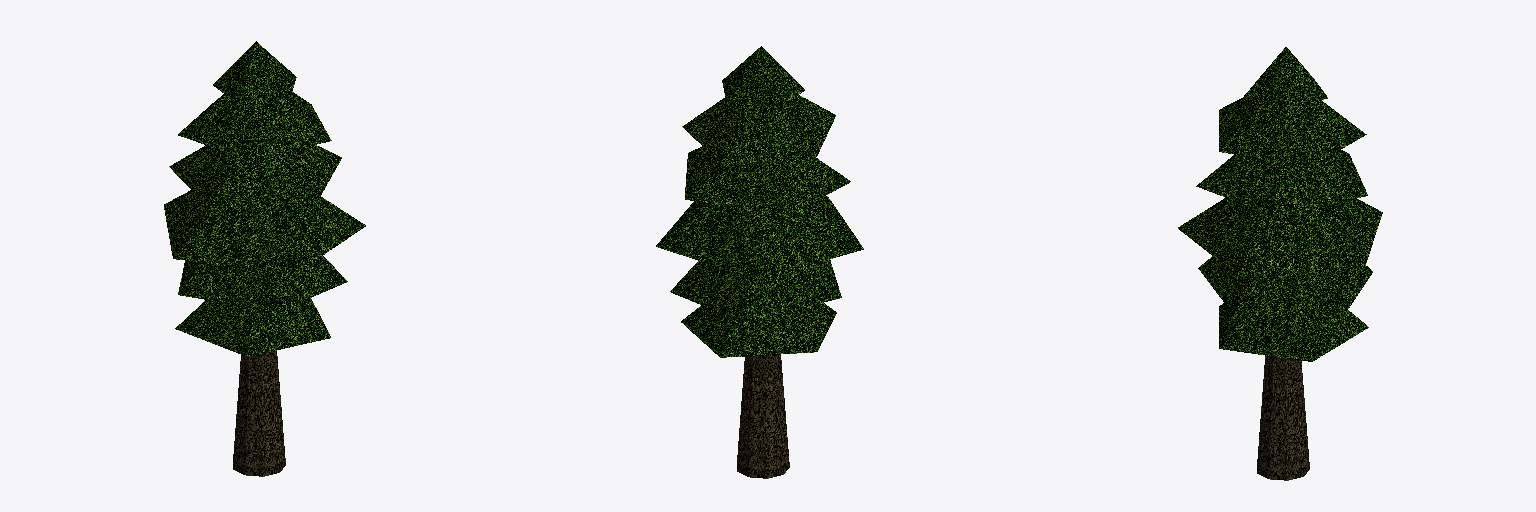
3 renders of one model, left to right at view 1: azimuth 30°, elevation 25°; view 2: azimuth 150°, elevation 25°; view 3: azimuth 270°, elevation 25°, orthographic.
Parts seen in each view (by area): view 1: leaves_Cone.005, wood_Cylinder.001; view 2: leaves_Cone.005, wood_Cylinder.001; view 3: leaves_Cone.005, wood_Cylinder.001.
Part boxes in pixels (x1,y1,x2,y2): leaves_Cone.005: (164,41,365,356); wood_Cylinder.001: (233,350,285,476); leaves_Cone.005: (656,46,863,357); wood_Cylinder.001: (737,354,789,478); leaves_Cone.005: (1178,47,1382,361); wood_Cylinder.001: (1257,356,1309,480).
Size of the model in its own units: 1.63 by 3.67 by 1.62.
Materials: 2 (2 with a texture image).